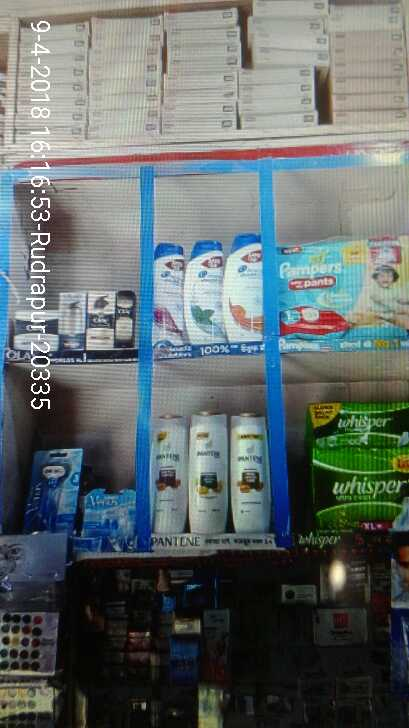venus: (34, 450, 76, 538), (84, 485, 137, 537)
